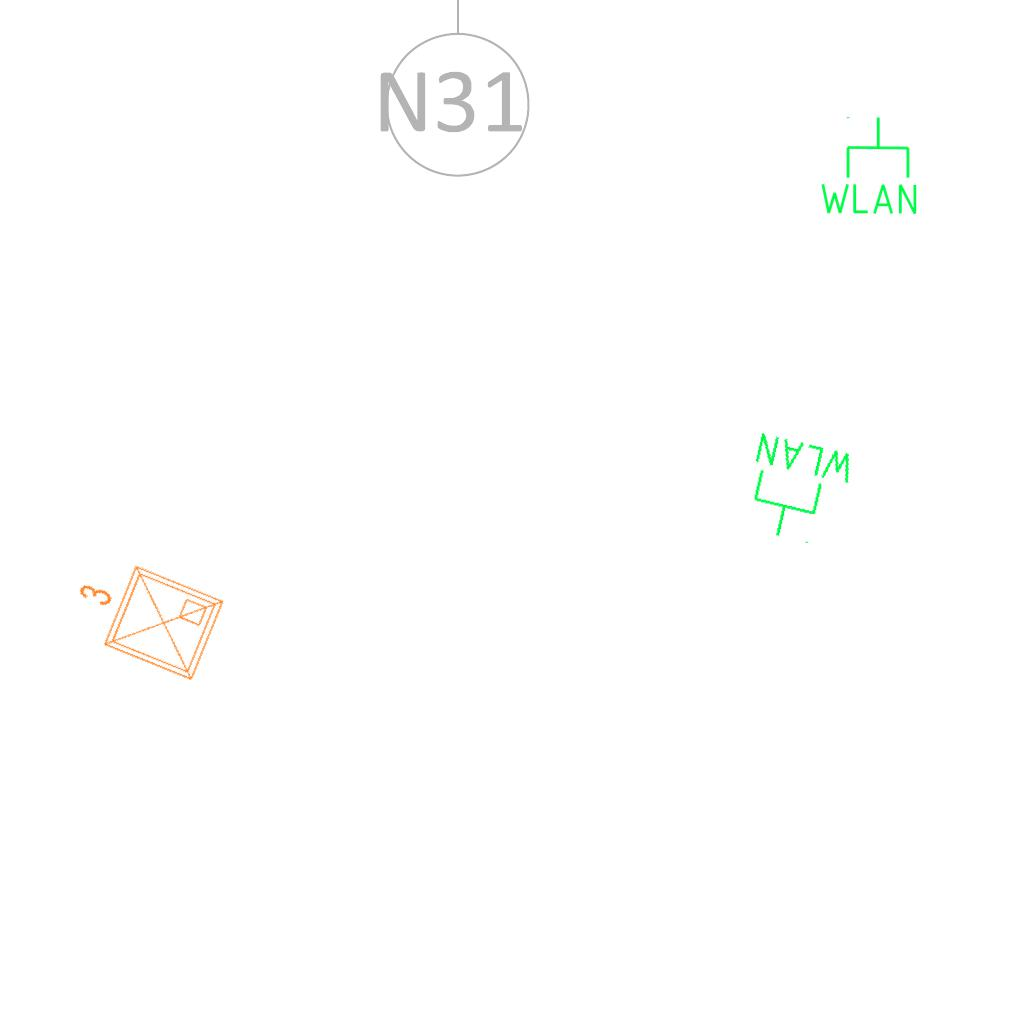Einbaudownlights_LED_Konferenzraeume: (54, 540, 234, 694)
WLAN: (735, 428, 861, 553), (816, 114, 921, 218)
